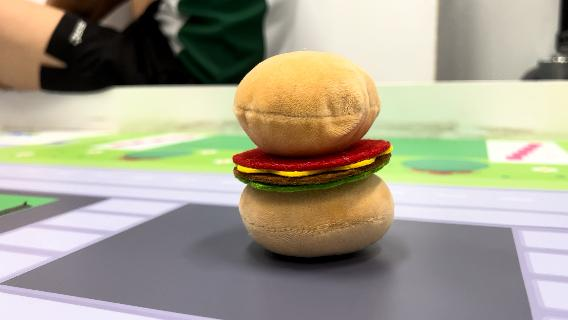burger: (228, 46, 401, 260)
